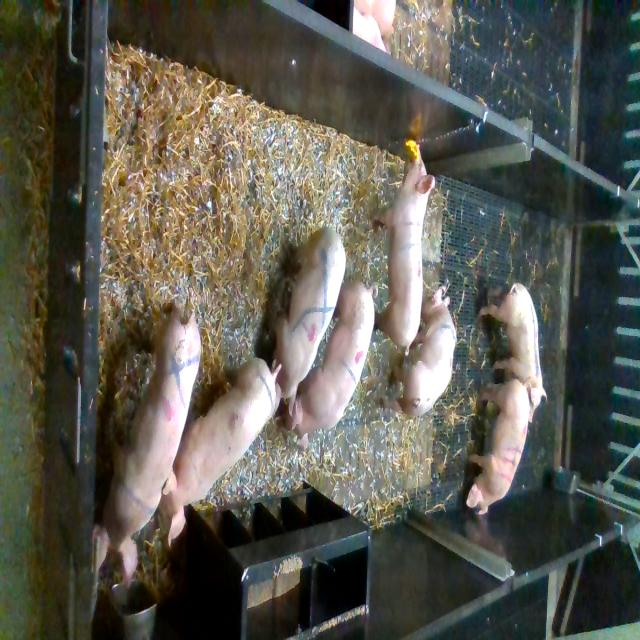pig: (91, 308, 201, 588), (158, 358, 282, 547), (284, 278, 378, 450), (267, 228, 346, 420), (370, 144, 435, 356), (379, 289, 456, 417), (478, 282, 547, 422), (466, 378, 530, 515)
